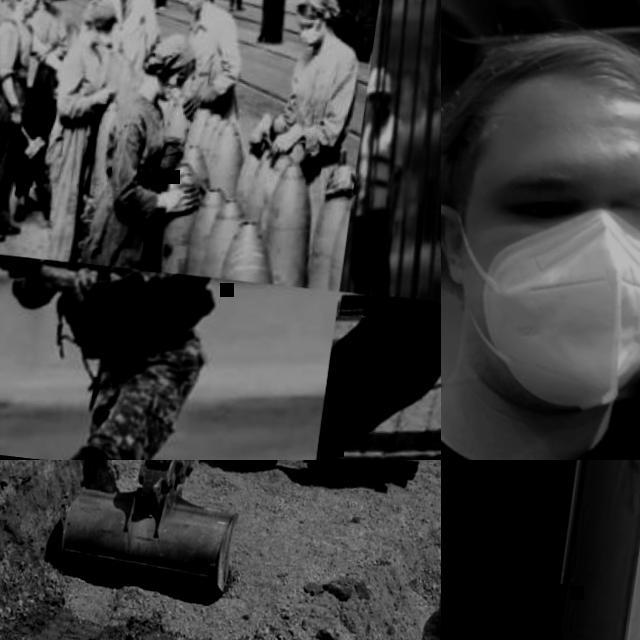helmet: (369, 66, 398, 101)
vest: (355, 117, 406, 211)
